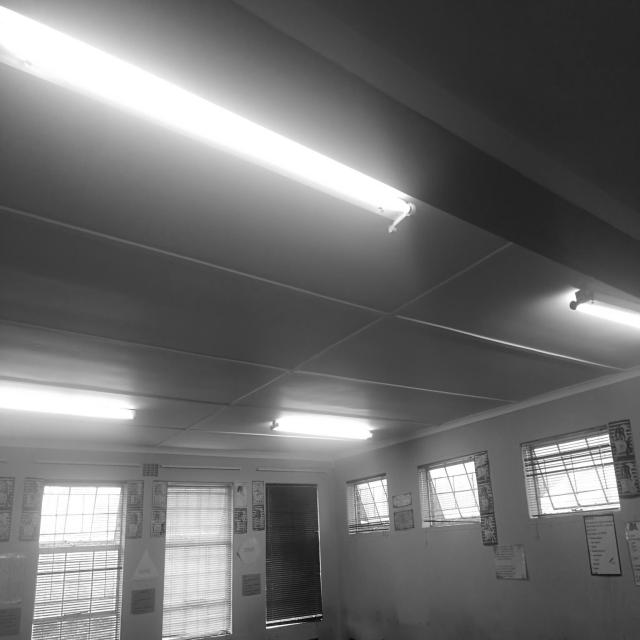light: (0, 2, 416, 233), (0, 379, 137, 421), (270, 412, 372, 441), (569, 288, 639, 329)
